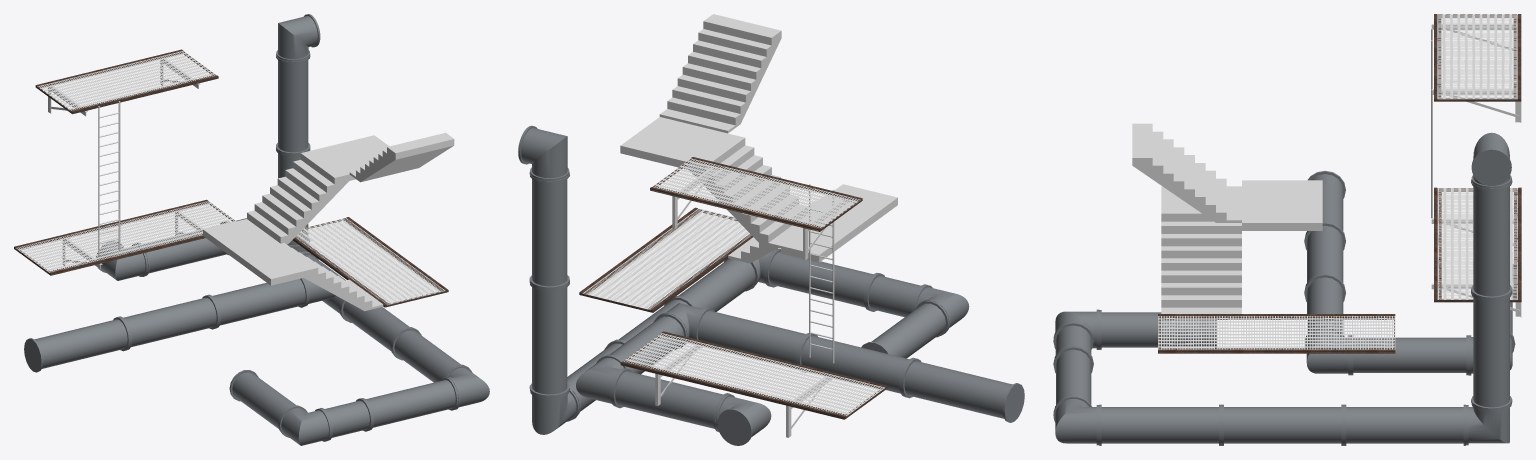
File: Escaleras 2 Paredes Esquina PasillosVerticales v2.fbx
3 renders of one model, left to right at view 1: azimuth 30°, elevation 25°; view 2: azimuth 150°, elevation 25°; view 3: azimuth 270°, elevation 25°, orthographic. The views are drawn at different scales.
Parts seen in each view (by area): view 1: Tuberia_5m.020, Plane.053, Cube.125, Cube.078, Plane.046, Cube.092, Tuberia_5m.008, Tuberia_5m.013, Tuberia_5m.017, Plane.054, Tuberia_5m.014, Marco.015 (+11 smaller); view 2: Tuberia_5m.020, Plane.054, Plane.053, Cube.125, Tuberia_5m.013, Cube.078, Cube.092, Plane.046, Tuberia_5m.006, Tuberia_5m.008, Tuberia_5m.017, Marco.015 (+15 smaller); view 3: Tuberia_5m.008, Plane.046, Tuberia_5m.013, Cube.092, Cube.078, Plane.054, Cube.125, Tuberia_5m.020, Plane.053, Tuberia_5m.015, Tuberia_5m.014, Marco.013 (+11 smaller).
Boxes of the visible parts, x1=… form: Tuberia_5m.020: x1=24, y1=278, x2=308, y2=372; Plane.053: x1=236, y1=135, x2=389, y2=246; Cube.125: x1=15, y1=201, x2=235, y2=272; Cube.078: x1=295, y1=218, x2=445, y2=305; Plane.046: x1=203, y1=221, x2=383, y2=311; Cube.092: x1=37, y1=51, x2=216, y2=111; Tuberia_5m.008: x1=302, y1=252, x2=469, y2=382; Tuberia_5m.013: x1=276, y1=53, x2=310, y2=248; Tuberia_5m.017: x1=362, y1=377, x2=458, y2=430; Plane.054: x1=349, y1=132, x2=454, y2=182; Tuberia_5m.014: x1=229, y1=370, x2=298, y2=434; Marco.015: x1=14, y1=199, x2=234, y2=275; Tuberia_5m.020: x1=694, y1=308, x2=1024, y2=422; Plane.054: x1=659, y1=14, x2=781, y2=133; Plane.053: x1=620, y1=117, x2=815, y2=248; Cube.125: x1=623, y1=333, x2=885, y2=416; Tuberia_5m.013: x1=529, y1=172, x2=569, y2=397; Cube.078: x1=582, y1=208, x2=751, y2=309; Cube.092: x1=652, y1=158, x2=860, y2=228; Plane.046: x1=728, y1=184, x2=897, y2=263; Tuberia_5m.006: x1=612, y1=368, x2=730, y2=432; Tuberia_5m.008: x1=567, y1=258, x2=758, y2=419; Tuberia_5m.017: x1=766, y1=249, x2=878, y2=310; Marco.015: x1=620, y1=331, x2=887, y2=419; Tuberia_5m.008: x1=1099, y1=404, x2=1465, y2=445; Plane.046: x1=1161, y1=186, x2=1241, y2=313; Tuberia_5m.013: x1=1471, y1=179, x2=1512, y2=410; Cube.092: x1=1437, y1=14, x2=1517, y2=99; Cube.078: x1=1158, y1=316, x2=1395, y2=349; Plane.054: x1=1132, y1=123, x2=1241, y2=222; Cube.125: x1=1437, y1=188, x2=1517, y2=299; Tuberia_5m.020: x1=1304, y1=170, x2=1345, y2=339; Plane.053: x1=1242, y1=180, x2=1322, y2=230; Tuberia_5m.015: x1=1350, y1=335, x2=1468, y2=375; Tuberia_5m.014: x1=1099, y1=310, x2=1216, y2=349; Marco.013: x1=1158, y1=314, x2=1395, y2=353.
Size of the model in its own units: 1961 by 1377 by 1914.
